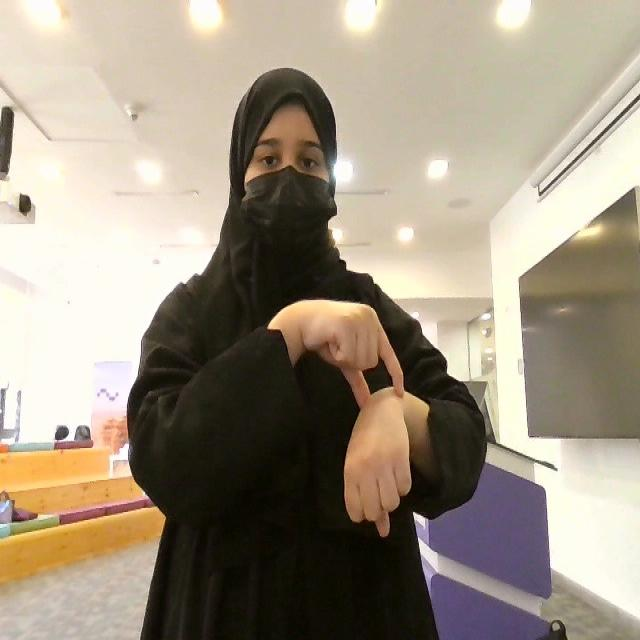appointment: (287, 294, 413, 540)
